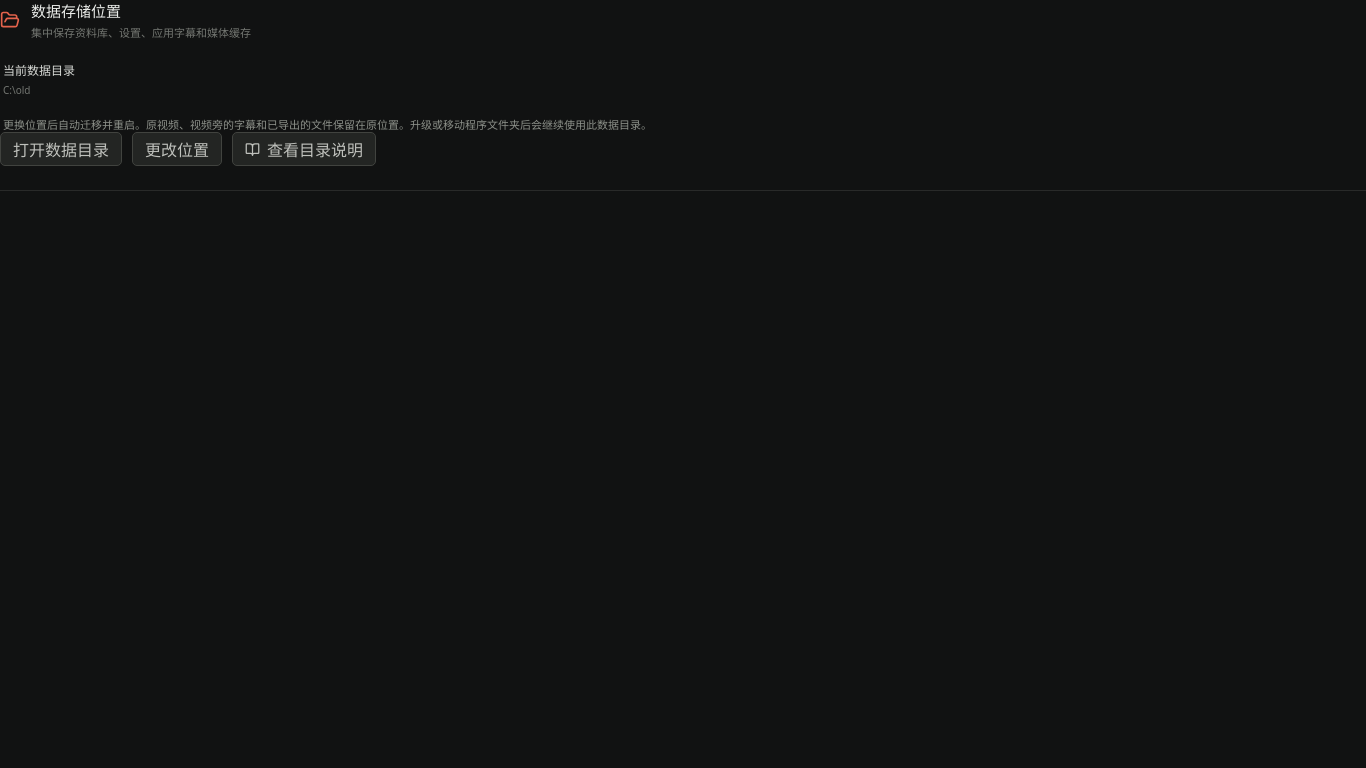
Test: data storage settings › supports cancelling both the native picker and the confirmation
Later steps or results of the test are not shown.
Expected: the text "C:\\old" is shown, top-left (3, 83), bottom-right (30, 97)
Click the button "更改位置" at (177, 149), box top-left (132, 132), bottom-right (222, 166)
Click the button "更改位置" at (177, 149), box top-left (132, 132), bottom-right (222, 166)
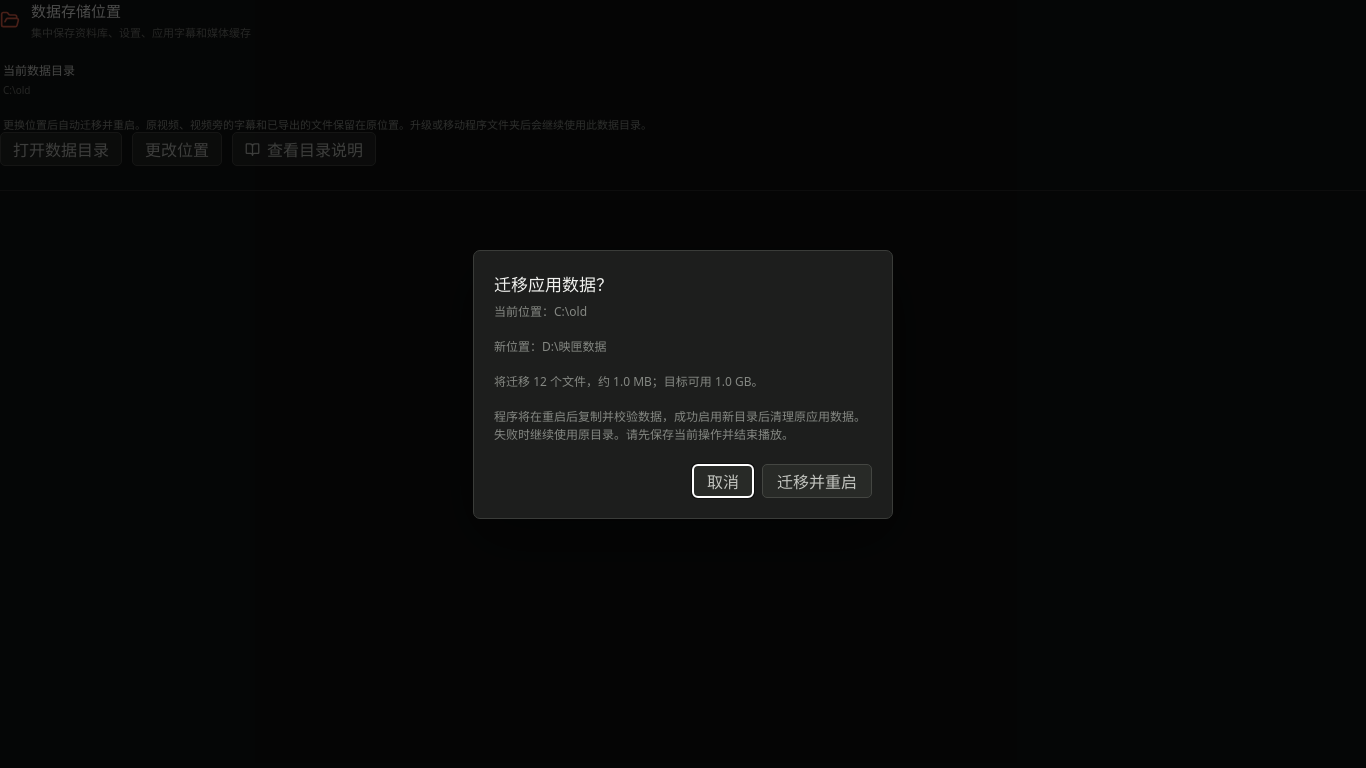
Expected: the dialog is shown, top-left (473, 250), bottom-right (893, 518)
